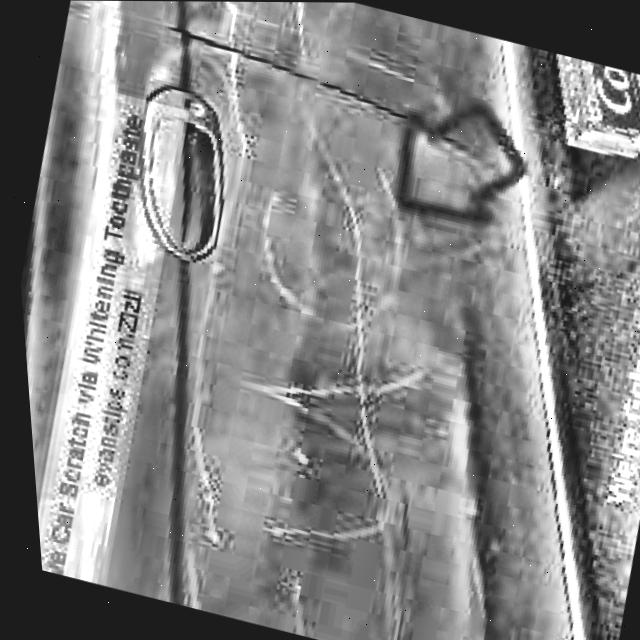door_scratch: (153, 190, 457, 595), (192, 1, 277, 150)
